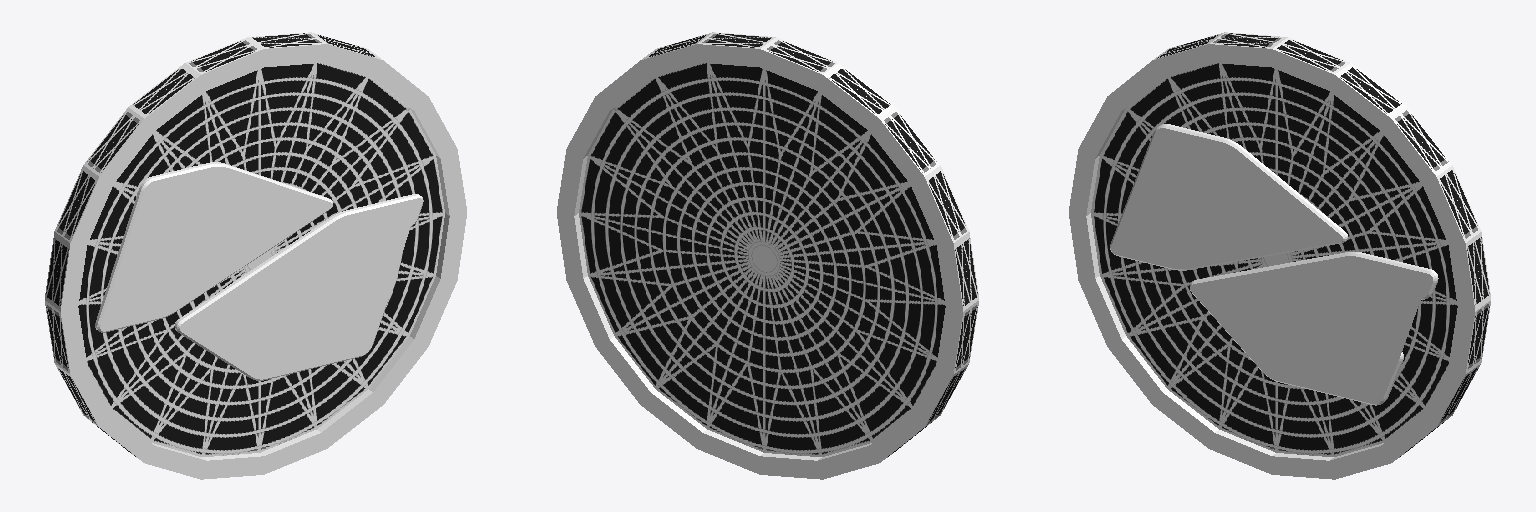
3 views of the same model, side by side, from view 1: azimuth 30°, elevation 25°; view 2: azimuth 150°, elevation 25°; view 3: azimuth 330°, elevation 25° (orthographic).
Visible parts, largest first — view 1: DGbitcoin_v01:pCylinder4 DGbitcoin_v01:polySurface2 DGbitcoin_v0, DGbitcoin_v01:TURNTABLE DGbitcoin_v01:TurnTable DGbitcoin_v01:po; view 2: DGbitcoin_v01:pCylinder4 DGbitcoin_v01:polySurface2 DGbitcoin_v0; view 3: DGbitcoin_v01:pCylinder4 DGbitcoin_v01:polySurface2 DGbitcoin_v0, DGbitcoin_v01:TURNTABLE DGbitcoin_v01:TurnTable DGbitcoin_v01:po.
Part boxes in pixels (left/top/right/bottom): DGbitcoin_v01:pCylinder4 DGbitcoin_v01:polySurface2 DGbitcoin_v0: left=45, top=32, right=466, bottom=479; DGbitcoin_v01:TURNTABLE DGbitcoin_v01:TurnTable DGbitcoin_v01:po: left=95, top=162, right=423, bottom=380; DGbitcoin_v01:pCylinder4 DGbitcoin_v01:polySurface2 DGbitcoin_v0: left=557, top=32, right=978, bottom=479; DGbitcoin_v01:pCylinder4 DGbitcoin_v01:polySurface2 DGbitcoin_v0: left=1069, top=32, right=1490, bottom=479; DGbitcoin_v01:TURNTABLE DGbitcoin_v01:TurnTable DGbitcoin_v01:po: left=1110, top=124, right=1438, bottom=405.
Bounding box in the file's own units: 7.18 × 7.18 × 0.4914.
Materials: 1 (1 with a texture image).